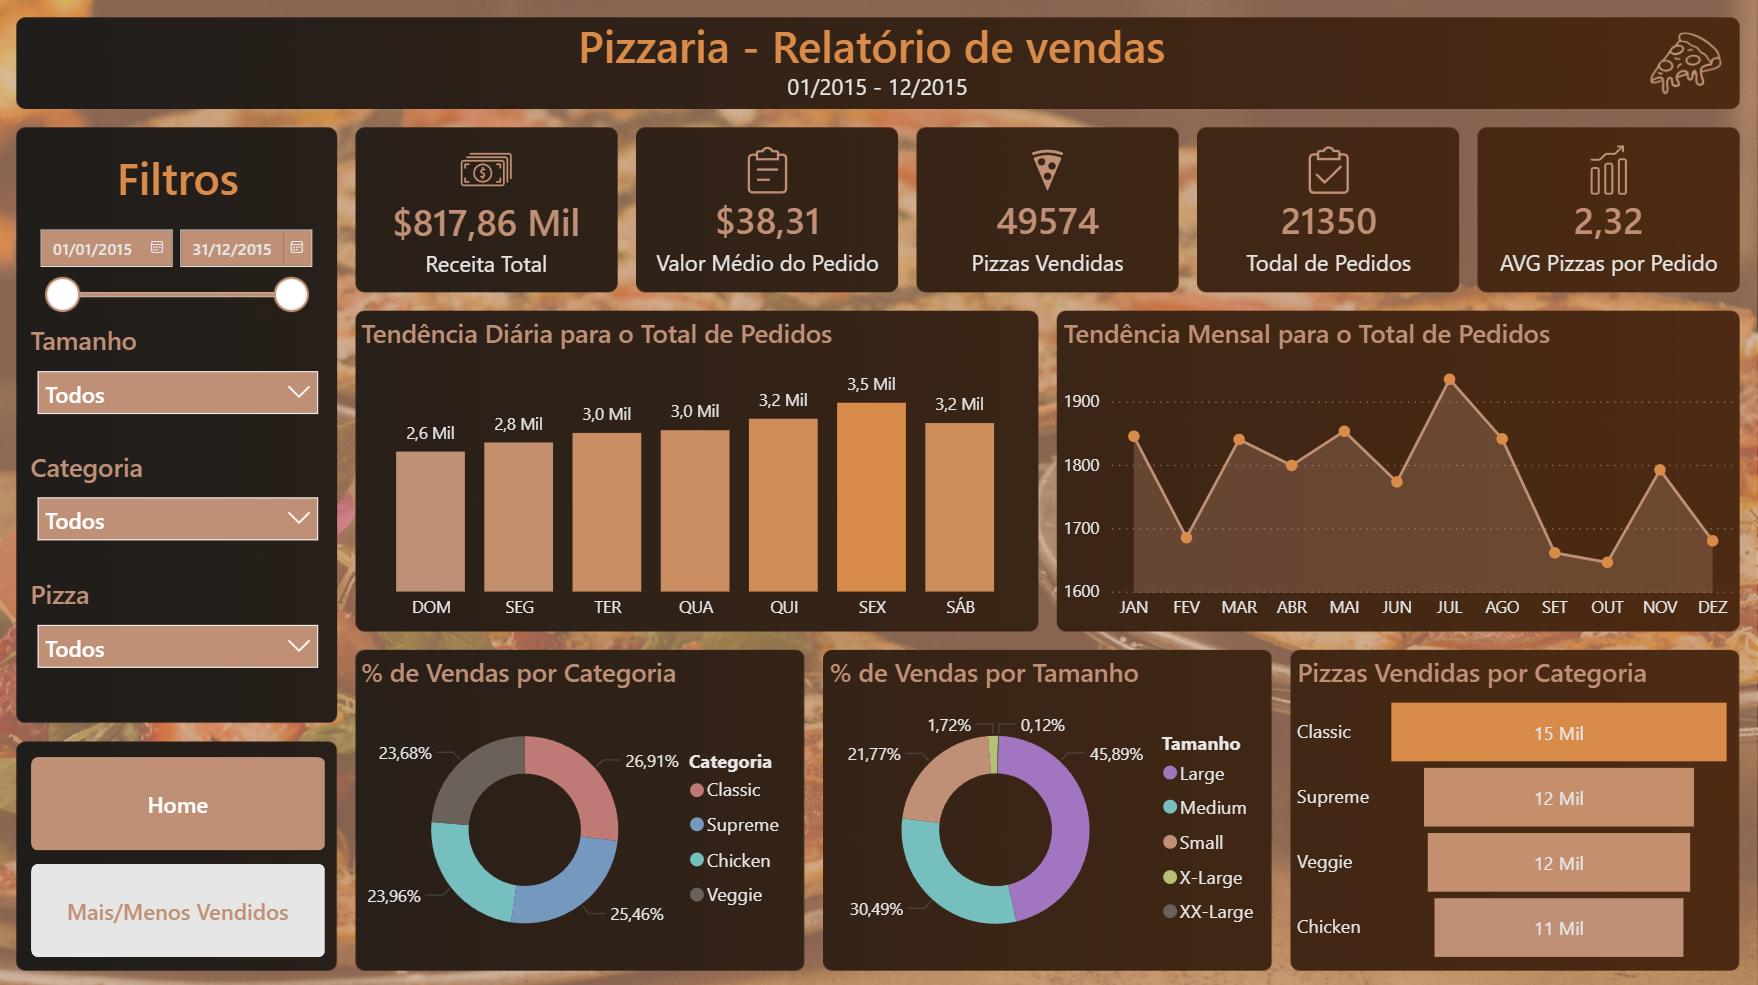

Layout of this report page (visuals, bound fields, positions):
{"tool":"powerbi","page":{"name":"Home","canvas":[1280,720],"ordinal":0},"visuals":[{"type":"cardVisual","fields":{"Data":["pizza_sales pizza_sales.Total Revenue"]},"box":[259.1,93.5,192.1,120.5],"z":0},{"type":"cardVisual","fields":{"Data":["pizza_sales pizza_sales.Average Order Value"]},"box":[463.7,93.5,192.1,120.5],"z":1000},{"type":"cardVisual","fields":{"Data":["pizza_sales pizza_sales.Total Pizza Sold"]},"box":[667.2,93.5,192.1,120.5],"z":2000},{"type":"cardVisual","fields":{"Data":["pizza_sales pizza_sales.Total Orders"]},"box":[871.8,93.5,192.1,120.5],"z":3000},{"type":"cardVisual","fields":{"Data":["pizza_sales pizza_sales.Average Pizzas Per Order"]},"box":[1075.3,93.5,192.1,120.5],"z":4000},{"type":"textbox","box":[421.6,11.7,488.8,45.5],"z":5000},{"type":"card","fields":{"Values":["Calendar.Range Date"]},"box":[537.6,49.2,204.6,34.1],"z":6000},{"type":"columnChart","title":"Tendência Diária para o Total de Pedidos","fields":{"Category":["Calendar.week_day"],"Y":["pizza_sales pizza_sales.Total Orders"]},"box":[259.4,225.7,497.5,235],"z":7000},{"type":"areaChart","title":"Tendência Mensal para o Total de Pedidos","fields":{"Category":["Calendar.month_name"],"Y":["pizza_sales pizza_sales.Total Orders"]},"box":[769.7,225.7,497.5,235],"z":8000},{"type":"donutChart","title":"% de Vendas por Categoria","fields":{"Category":["pizza_sales pizza_sales.pizza_category"],"Y":["pizza_sales pizza_sales.Total Revenue"]},"box":[259.1,472.1,327.4,234.2],"z":9000},{"type":"donutChart","title":"% de Vendas por Tamanho","fields":{"Category":["pizza_sales pizza_sales.pizza_size"],"Y":["pizza_sales pizza_sales.Total Revenue"]},"box":[600.1,472.1,327.4,234.2],"z":10000},{"type":"funnel","title":"Pizzas Vendidas por Categoria","fields":{"Category":["pizza_sales pizza_sales.pizza_category"],"Y":["pizza_sales pizza_sales.Total Pizza Sold"]},"box":[940,472.1,327.4,234.2],"z":11000},{"type":"slicer","title":"Categoria","fields":{"Values":["pizza_sales pizza_sales.pizza_category"]},"box":[13.5,327.6,234.2,92.1],"z":12000},{"type":"slicer","title":"Tamanho","fields":{"Values":["pizza_sales pizza_sales.pizza_size"]},"box":[13.5,235.5,234.2,92.1],"z":13000},{"type":"slicer","title":"Data","fields":{"Values":["Calendar.date"]},"box":[18.1,157.1,216,78.4],"z":14000},{"type":"slicer","title":"Pizza","fields":{"Values":["pizza_sales pizza_sales.pizza_name"]},"box":[13.5,419.7,234.2,92.1],"z":15000},{"type":"textbox","box":[13.5,108.2,234.2,48.9],"z":16000},{"type":"pageNavigator","box":[13.5,540.6,234.5,167.3],"z":17000}]}

Visuals, with their boxes in screenshot pixels (x1, y1, x2, y2), scaled from the page's 1280x720 canvas onto the 1758x985 screenshot:
cardVisual - pizza_sales pizza_sales.Total Revenue: (x1=356, y1=128, x2=620, y2=293)
cardVisual - pizza_sales pizza_sales.Average Order Value: (x1=637, y1=128, x2=901, y2=293)
cardVisual - pizza_sales pizza_sales.Total Pizza Sold: (x1=916, y1=128, x2=1180, y2=293)
cardVisual - pizza_sales pizza_sales.Total Orders: (x1=1197, y1=128, x2=1461, y2=293)
cardVisual - pizza_sales pizza_sales.Average Pizzas Per Order: (x1=1477, y1=128, x2=1741, y2=293)
textbox: (x1=579, y1=16, x2=1250, y2=78)
card - Calendar.Range Date: (x1=738, y1=67, x2=1019, y2=114)
"Tendência Diária para o Total de Pedidos" columnChart: (x1=356, y1=309, x2=1040, y2=630)
"Tendência Mensal para o Total de Pedidos" areaChart: (x1=1057, y1=309, x2=1740, y2=630)
"% de Vendas por Categoria" donutChart: (x1=356, y1=646, x2=806, y2=966)
"% de Vendas por Tamanho" donutChart: (x1=824, y1=646, x2=1274, y2=966)
"Pizzas Vendidas por Categoria" funnel: (x1=1291, y1=646, x2=1741, y2=966)
"Categoria" slicer: (x1=19, y1=448, x2=340, y2=574)
"Tamanho" slicer: (x1=19, y1=322, x2=340, y2=448)
"Data" slicer: (x1=25, y1=215, x2=322, y2=322)
"Pizza" slicer: (x1=19, y1=574, x2=340, y2=700)
textbox: (x1=19, y1=148, x2=340, y2=215)
pageNavigator: (x1=19, y1=740, x2=341, y2=968)
